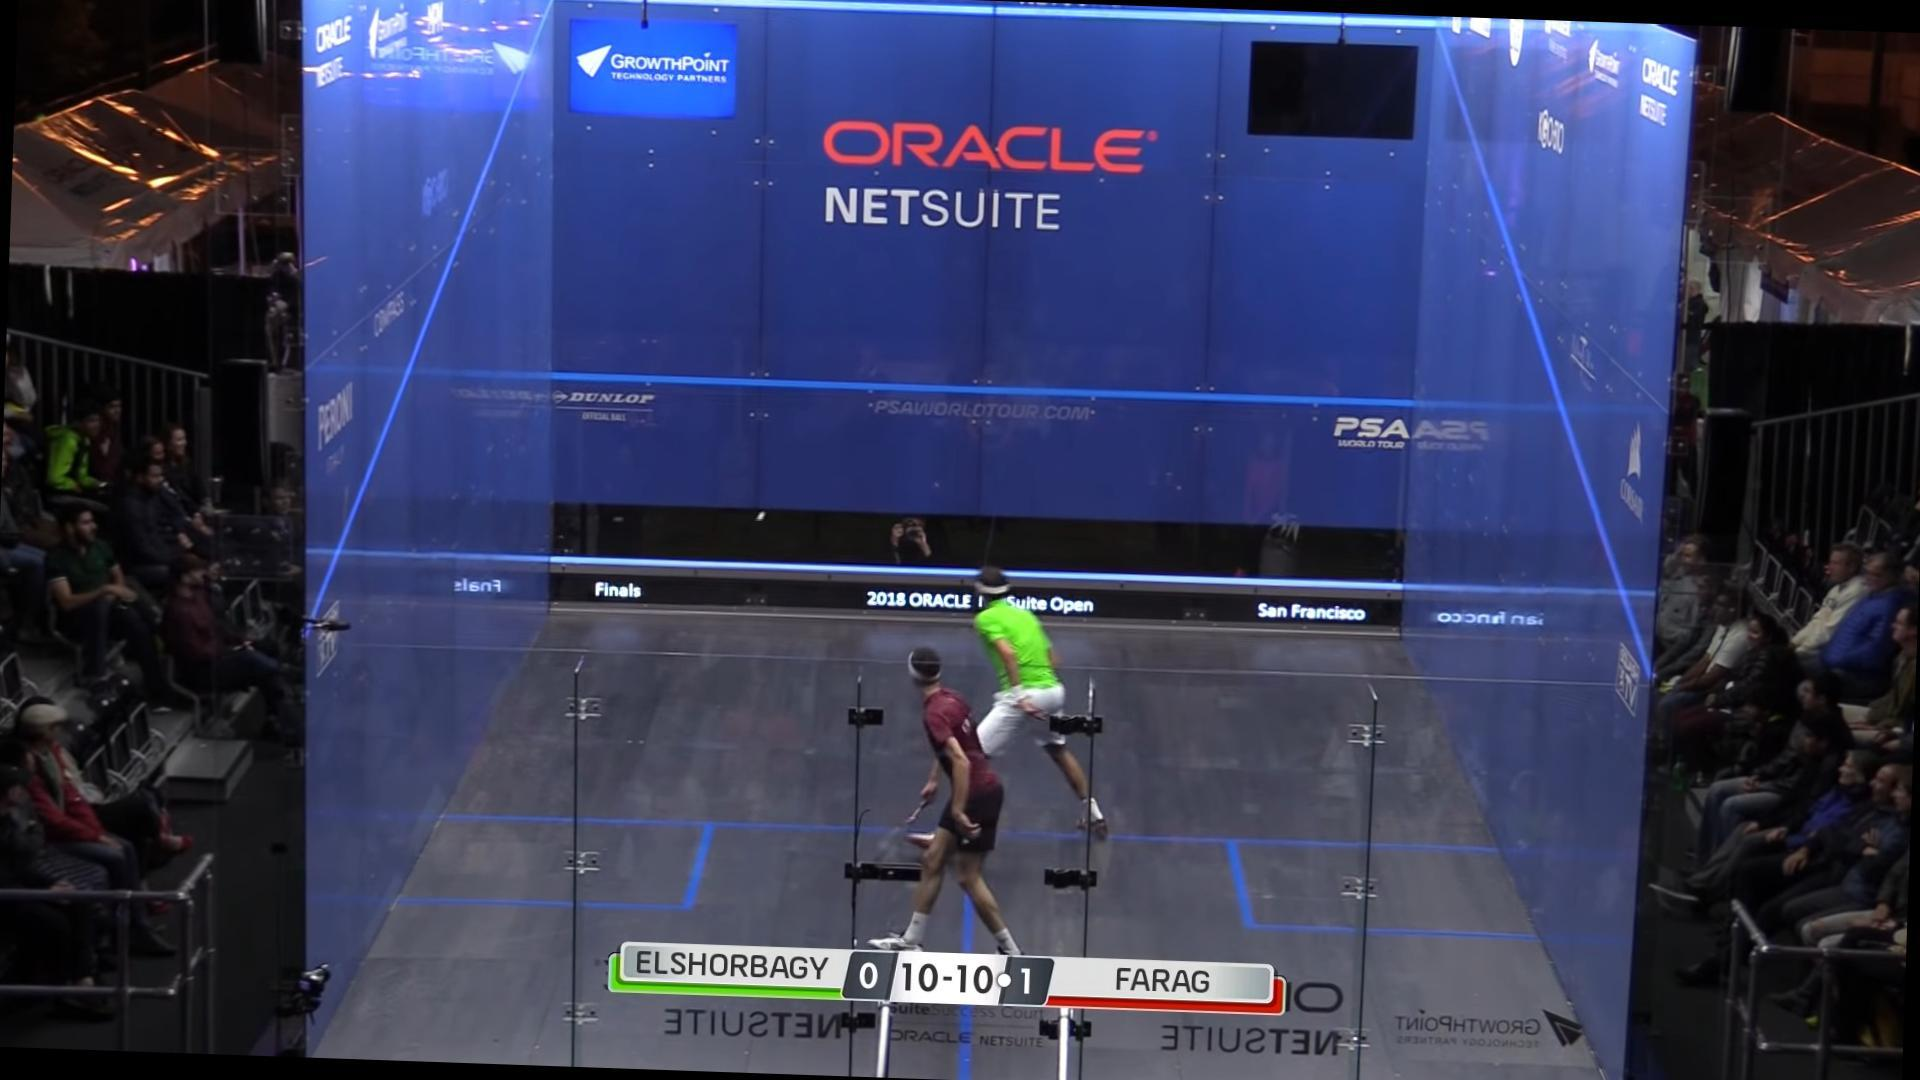Squash-Ball: (745, 498, 778, 527)
